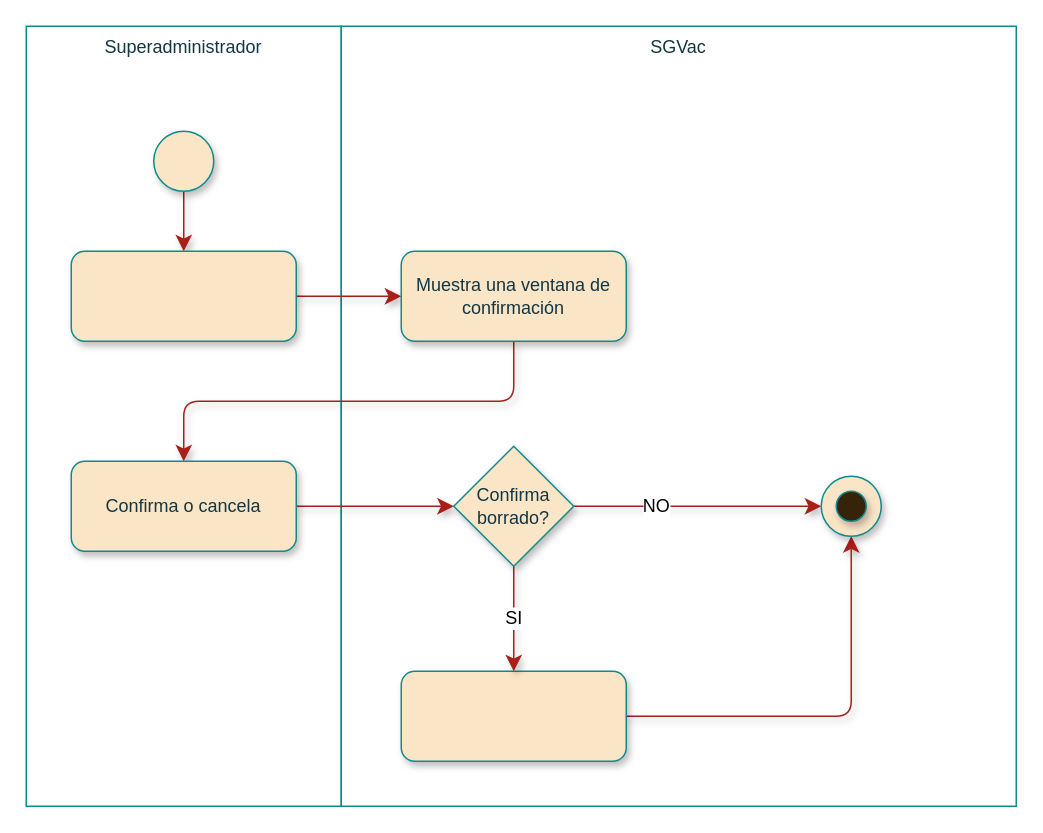
Some shapes in this 1043 by 833 pixel diagram are drawn without their labels. Each missing label, with the centre of its shape:
Borra el administrador: the point at 514,718
Elige la opción de borrar un administrador: the point at 184,298
